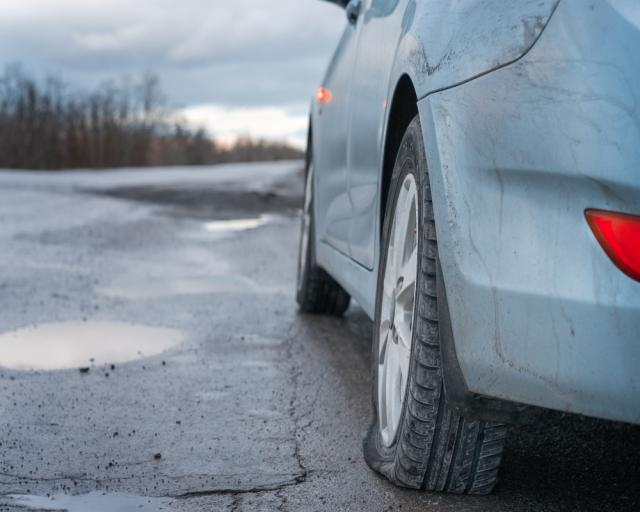tire flat: (361, 116, 510, 496)
